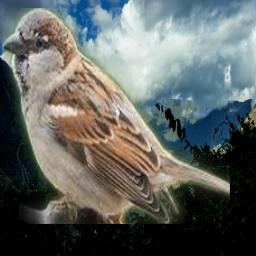Sparrow: (2, 8, 230, 224)
